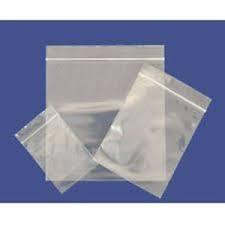Zip plastic bag: (3, 40, 225, 206)
